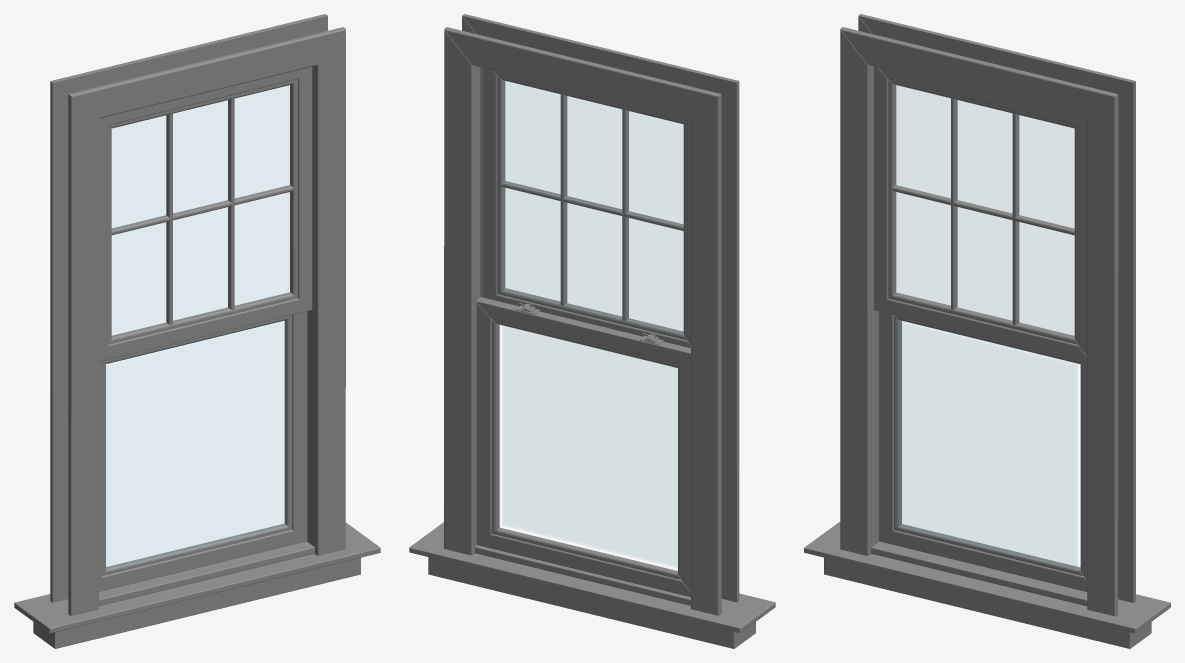
The model's file is Prozor.FBX.
3 renders of one model, left to right at view 1: azimuth 30°, elevation 25°; view 2: azimuth 150°, elevation 25°; view 3: azimuth 330°, elevation 25°, orthographic.
Parts seen in each view (by area): view 1: Staklo, Staklo_001, Trim_vertival_02, Trim_vertival_01, Trim_vertival_01_2, Trim__horizontal_, Leaf, Stool_cap, Objekt_01, Apron, Fillet, Trim__horizontal__2 (+11 smaller); view 2: Staklo, Staklo_001, Trim_vertival_01_2, Trim__vertival_02, Leaf, Trim_vertival_02, Trim__horizontal__2, Stool_cap, Apron, Fillet, Trim__horizontal_, Objekt_01 (+11 smaller); view 3: Staklo, Staklo_001, Trim_vertival_01, Trim_vertival_02, Trim__vertival_02, Trim__horizontal_, Leaf, Stool_cap, Objekt_01, Apron, Fillet, Trim__horizontal__2 (+11 smaller).
Part boxes in pixels (x1,y1,x2,y2): Staklo: (107,321,288,570); Staklo_001: (112,86,288,334); Trim_vertival_02: (68,94,98,615); Trim_vertival_01: (315,29,345,555); Trim_vertival_01_2: (50,81,68,602); Trim__horizontal_: (68,27,345,118); Leaf: (99,311,307,591); Stool_cap: (14,522,380,633); Objekt_01: (99,66,314,605); Apron: (33,557,360,648); Fillet: (102,315,292,575); Trim__horizontal__2: (50,14,327,94); Staklo: (503,326,677,567); Staklo_001: (503,81,682,336); Trim_vertival_01_2: (691,94,721,615); Trim__vertival_02: (444,29,474,555); Leaf: (476,297,690,597); Trim_vertival_02: (721,81,739,602); Trim__horizontal__2: (444,27,720,118); Stool_cap: (409,522,775,632); Apron: (428,557,755,648); Fillet: (491,319,681,579); Trim__horizontal_: (462,14,738,94); Objekt_01: (475,66,690,605); Staklo: (895,320,1077,570); Staklo_001: (897,86,1073,334); Trim_vertival_01: (1087,94,1118,616); Trim_vertival_02: (840,29,871,555); Trim__vertival_02: (1118,81,1135,602); Trim__horizontal_: (840,27,1117,118); Leaf: (879,311,1087,591); Stool_cap: (804,522,1170,633); Objekt_01: (871,66,1087,606); Apron: (824,557,1151,648); Fillet: (894,315,1084,576); Trim__horizontal__2: (858,14,1135,94).
Bounding box in the file's own units: 1049 × 1660 × 196.
